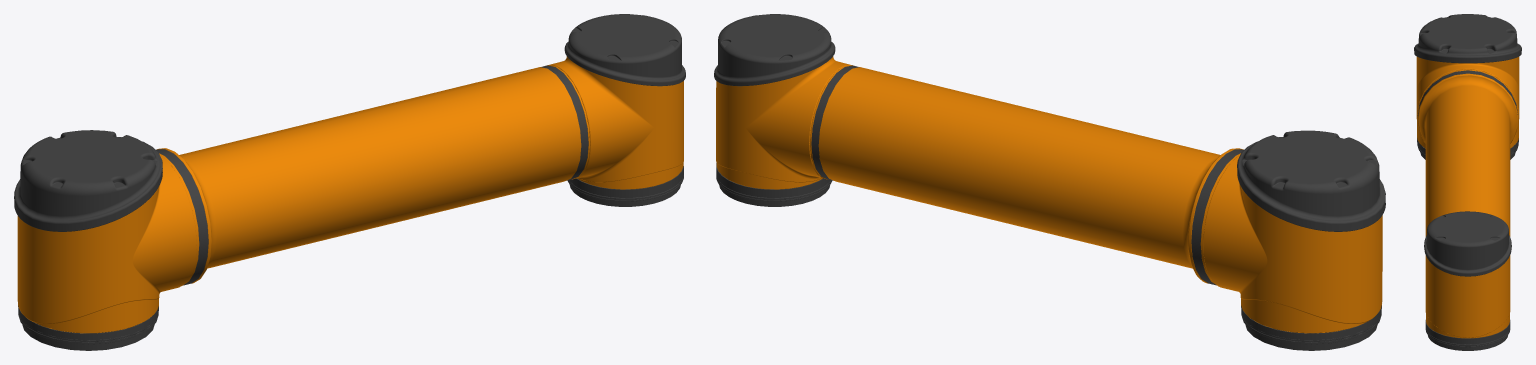
The picture shows the model from 3 angles, left to right: view 1: azimuth 30°, elevation 25°; view 2: azimuth 150°, elevation 25°; view 3: azimuth 270°, elevation 25°; orthographic projection. The views are drawn at different scales.
Parts seen in each view (by area): view 1: FBXASC195FBXASC141FBXASC194FBXASC185FBXASC195FBXASC140FBXASC, FBXASC195FBXASC135FBXASC195FBXASC144FBXASC194FBXASC179FBXASC; view 2: FBXASC195FBXASC141FBXASC194FBXASC185FBXASC195FBXASC140FBXASC, FBXASC195FBXASC135FBXASC195FBXASC144FBXASC194FBXASC179FBXASC; view 3: FBXASC195FBXASC141FBXASC194FBXASC185FBXASC195FBXASC140FBXASC, FBXASC195FBXASC135FBXASC195FBXASC144FBXASC194FBXASC179FBXASC.
Boxes of the visible parts, x1,y1,x2,y2 form: FBXASC195FBXASC141FBXASC194FBXASC185FBXASC195FBXASC140FBXASC: (14,65,590,350); FBXASC195FBXASC135FBXASC195FBXASC144FBXASC194FBXASC179FBXASC: (549,14,685,206); FBXASC195FBXASC141FBXASC194FBXASC185FBXASC195FBXASC140FBXASC: (809,65,1385,350); FBXASC195FBXASC135FBXASC195FBXASC144FBXASC194FBXASC179FBXASC: (714,14,850,206); FBXASC195FBXASC141FBXASC194FBXASC185FBXASC195FBXASC140FBXASC: (1414,14,1521,236); FBXASC195FBXASC135FBXASC195FBXASC144FBXASC194FBXASC179FBXASC: (1424,211,1511,350).
Bounding box in the file's own units: 0.978 × 0.193 × 0.2383.
